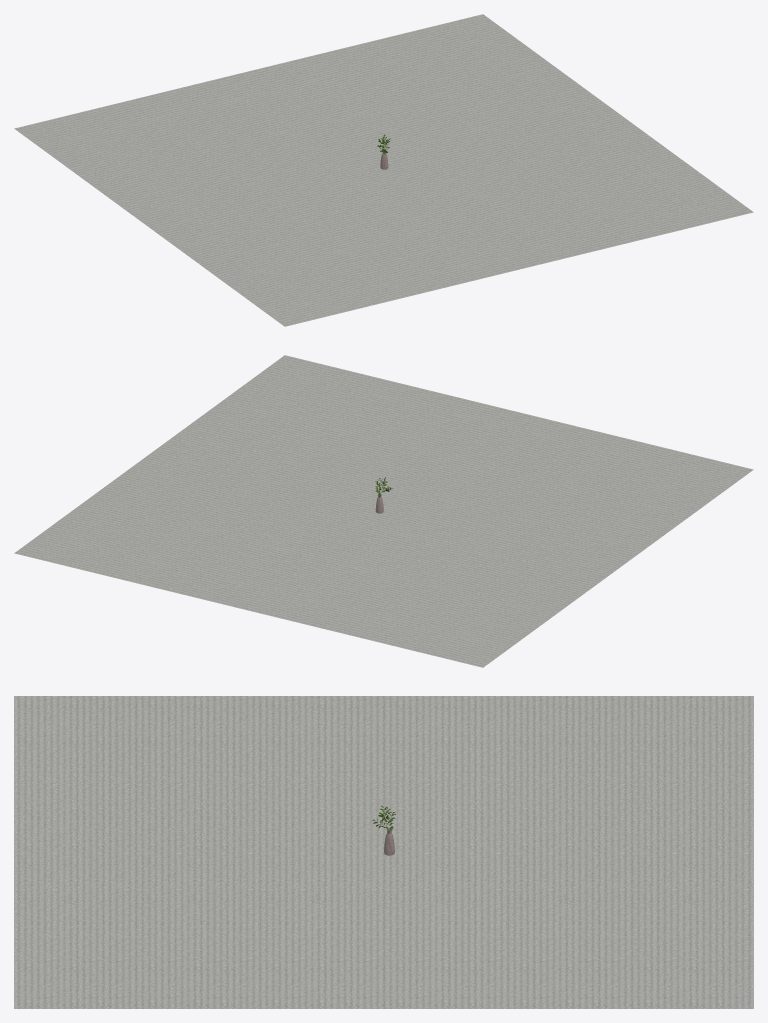
Rendered from Vase4.glb.
3 renders of one model, top to bottom at view 1: azimuth 30°, elevation 25°; view 2: azimuth 150°, elevation 25°; view 3: azimuth 270°, elevation 25°, orthographic. The views are drawn at different scales.
Visible parts, largest first — view 1: 47181756-a632-4b4e-9384-4cf01886ee47; view 2: 47181756-a632-4b4e-9384-4cf01886ee47; view 3: 47181756-a632-4b4e-9384-4cf01886ee47.
Part boxes in pixels (left/top/right/bottom): 47181756-a632-4b4e-9384-4cf01886ee47: left=14, top=14, right=753, bottom=326; 47181756-a632-4b4e-9384-4cf01886ee47: left=14, top=355, right=753, bottom=667; 47181756-a632-4b4e-9384-4cf01886ee47: left=14, top=696, right=753, bottom=1008.
Size of the model in its own units: 4 by 0.2745 by 4.
4 materials, 3 textured.
